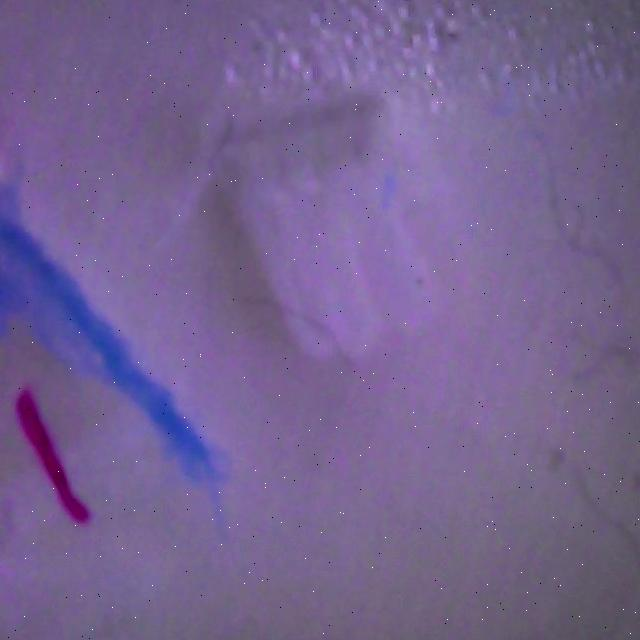Fibre: (517, 110, 629, 288), (19, 386, 89, 526), (571, 451, 640, 566)
